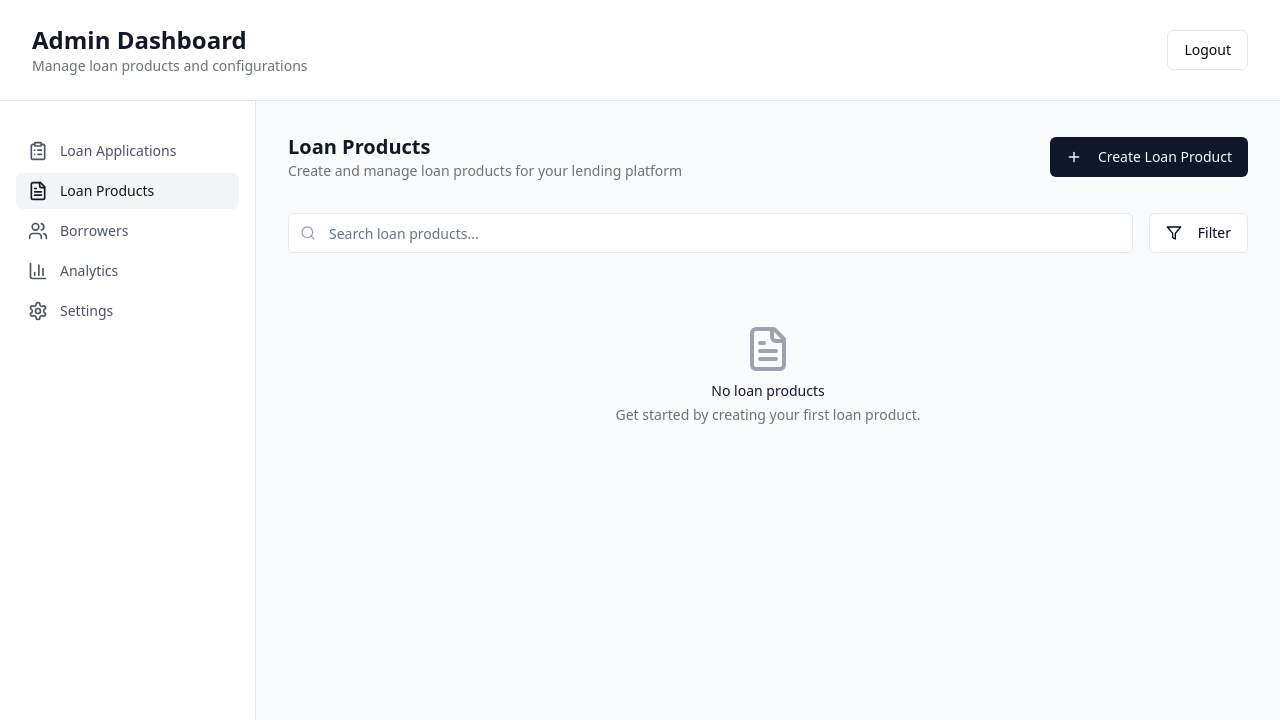
Test: Sprint 3: Admin Dashboard Loan Application Triage › Admin Dashboard Integration › should allow switching between applications and products tabs
Expected: the button "Create Loan Product" is shown, left=1050, top=137, right=1248, bottom=177
Click on Loan Applications tab
Click the button "Loan Applications" at (128, 151), box left=16, top=133, right=239, bottom=169
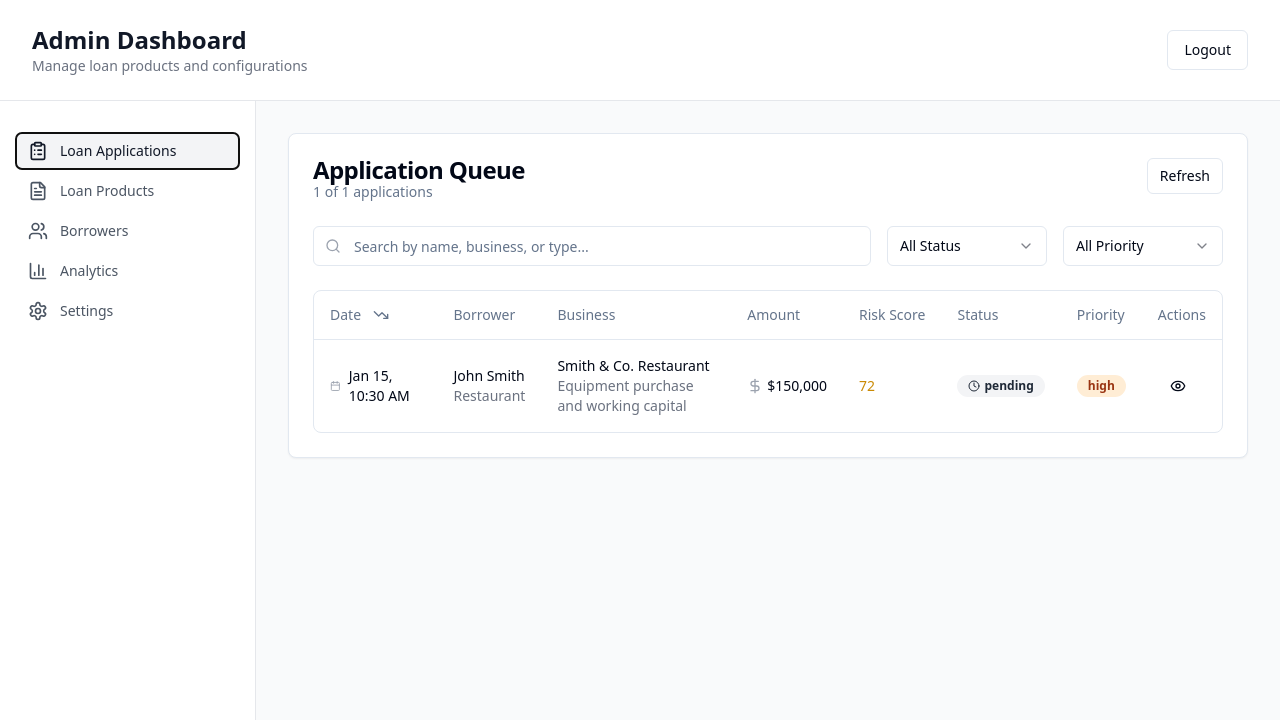
Now the heading "Application Queue" is shown, box left=313, top=158, right=525, bottom=182
